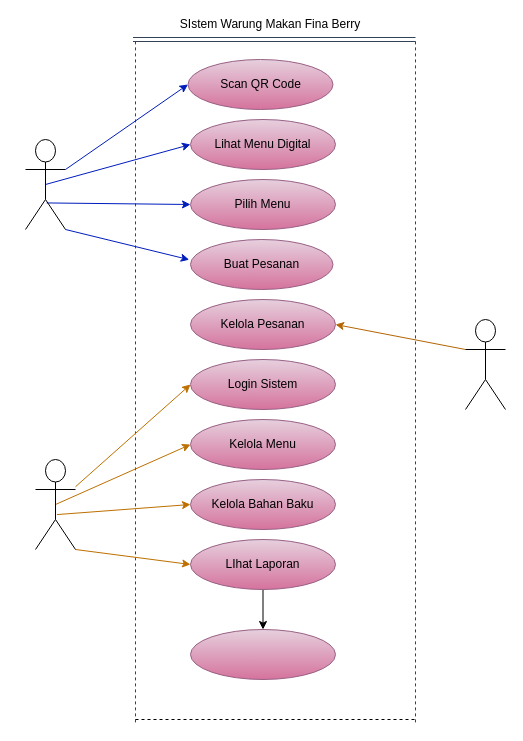
Some shapes in this 523 by 741 pixel diagram are drawn without their labels. The box of each missing label's shape, as (x1, y1, x2, y2) in pixels:
Admin/Pemilik: (34, 458, 76, 550)
Include Kurangi Stok: (190, 628, 336, 680)
Kasir: (464, 318, 506, 410)
Pelanggan: (24, 138, 66, 230)
